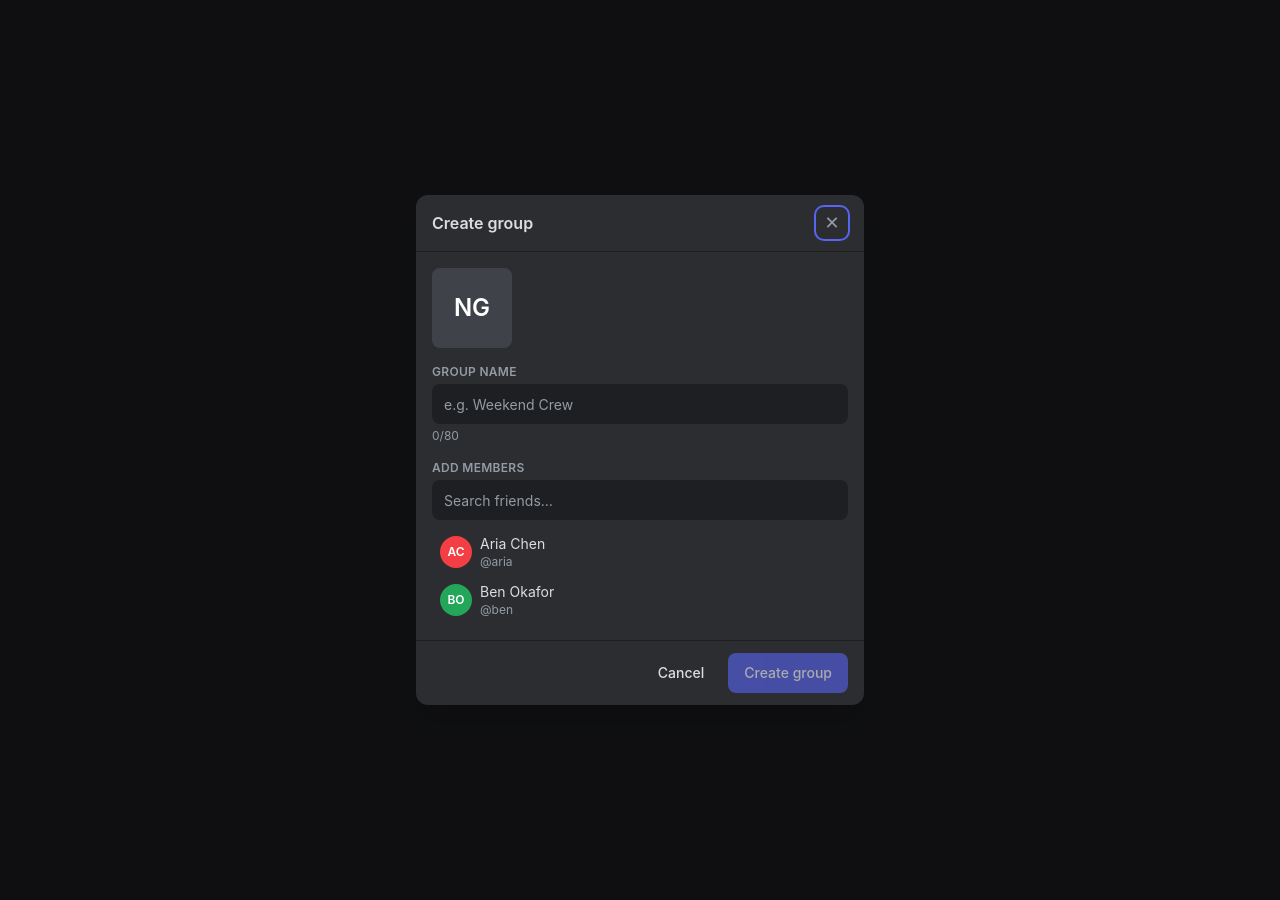
CreateGroupModal › enables Create group button when name is filled
Step 1. Type "Weekend Crew" into the field labelled "Group name" → (640, 404), box [432,384,848,424]
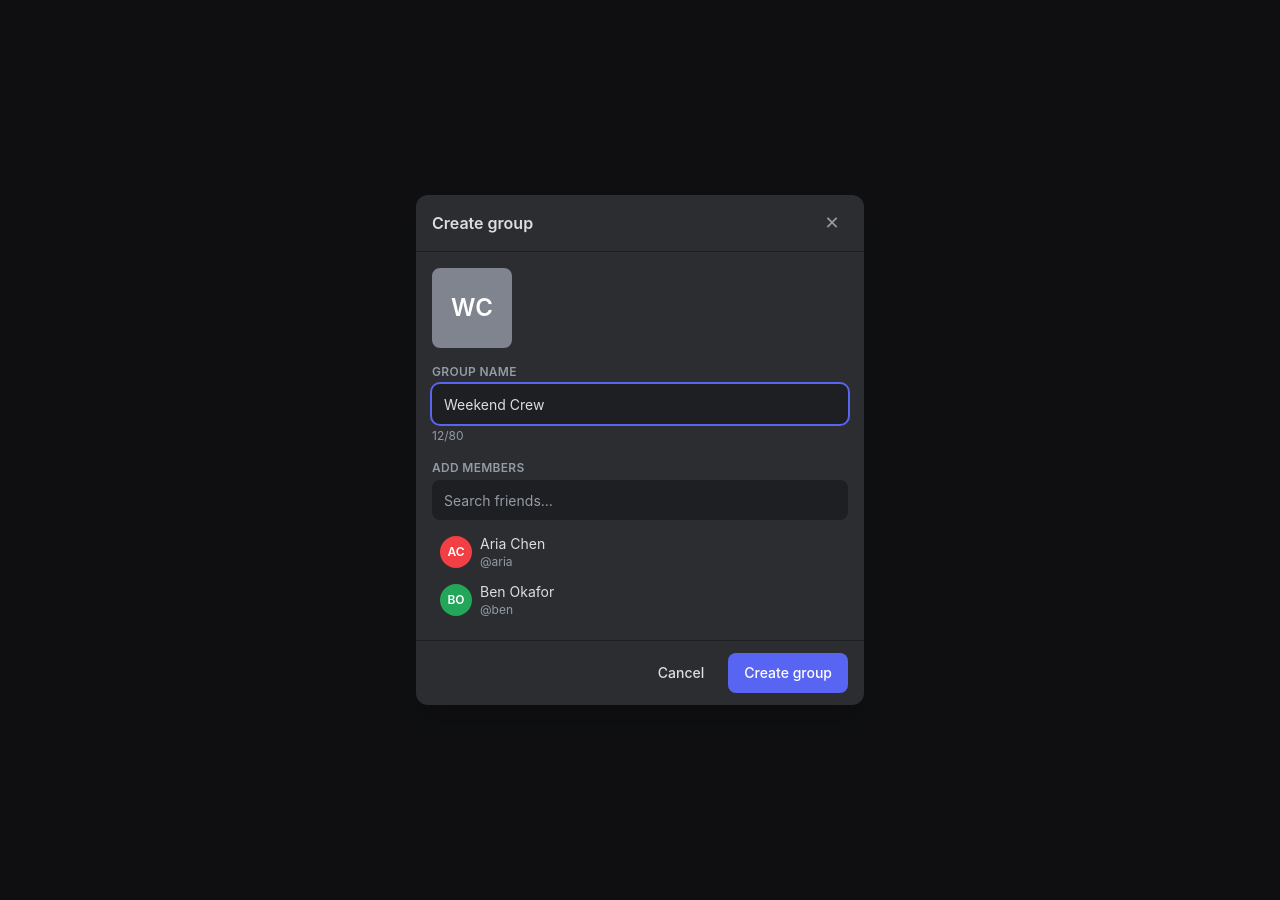
Check: the button "Create group" is enabled, box [728,653,848,693]
